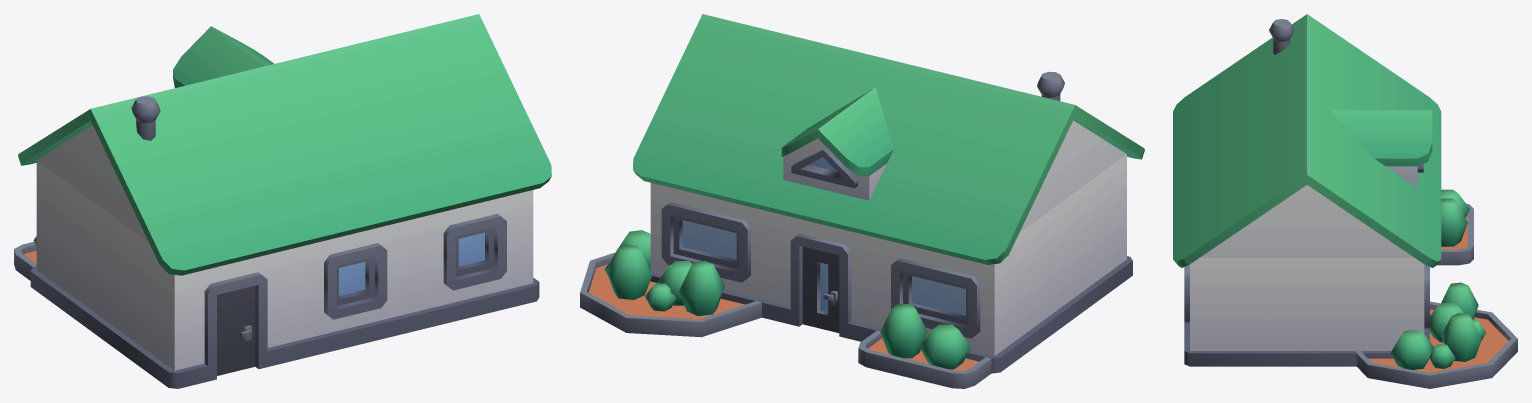
The model's file is house-g.glb.
The picture shows the model from 3 angles, left to right: view 1: azimuth 30°, elevation 25°; view 2: azimuth 150°, elevation 25°; view 3: azimuth 270°, elevation 25°; orthographic projection. The views are drawn at different scales.
Visible parts, largest first — view 1: building-type-g; view 2: building-type-g; view 3: building-type-g.
Boxes of the visible parts, left/top/right/bottom form: building-type-g: left=14, top=14, right=551, bottom=388; building-type-g: left=580, top=14, right=1144, bottom=388; building-type-g: left=1173, top=14, right=1517, bottom=388.
Bounding box in the file's own units: 1.45 × 0.7683 × 1.18.
Materials: 1 (1 with a texture image).
